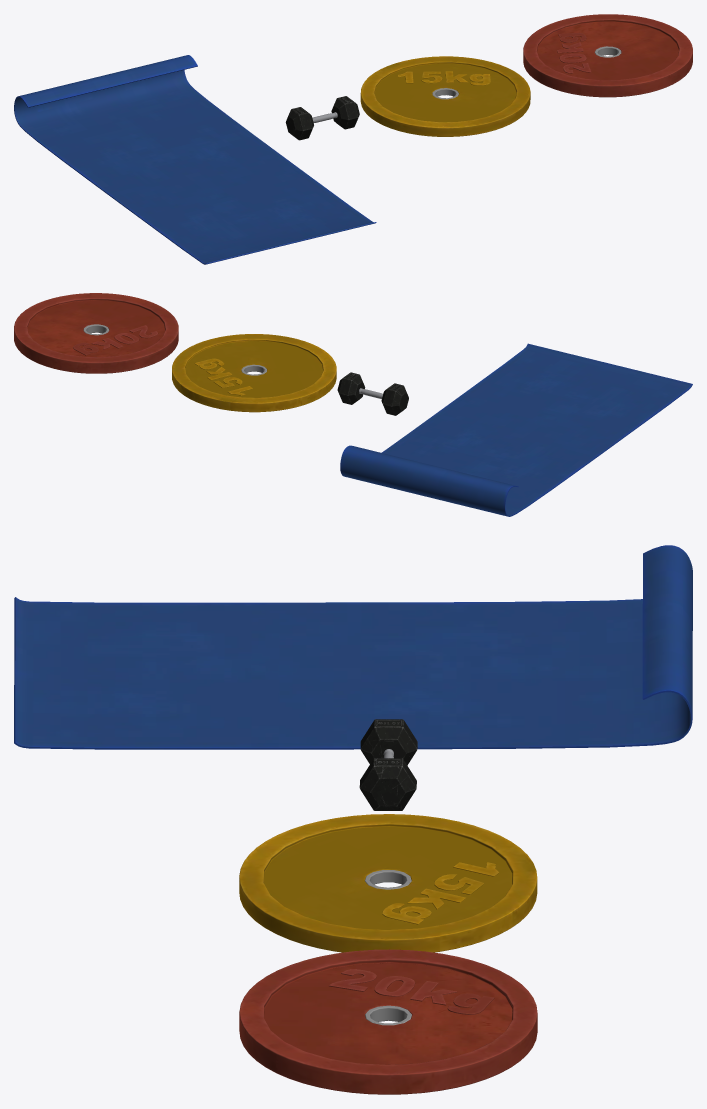
Rendered from gym-props-2.glb.
The picture shows the model from 3 angles, top to bottom: view 1: azimuth 30°, elevation 25°; view 2: azimuth 150°, elevation 25°; view 3: azimuth 270°, elevation 25°; orthographic projection. The views are drawn at different scales.
Visible parts, largest first — view 1: Object_0, Object_4, Object_6, Object_2; view 2: Object_0, Object_4, Object_6, Object_2; view 3: Object_0, Object_4, Object_6, Object_2.
Part boxes in pixels (<box>): Object_0: <box>14,55,376,264</box>; Object_4: <box>523,14,692,97</box>; Object_6: <box>360,56,530,136</box>; Object_2: <box>285,96,359,140</box>; Object_0: <box>340,343,692,516</box>; Object_4: <box>14,293,178,373</box>; Object_6: <box>172,334,336,412</box>; Object_2: <box>337,372,408,415</box>; Object_0: <box>14,545,692,749</box>; Object_4: <box>239,949,537,1094</box>; Object_6: <box>239,814,537,952</box>; Object_2: <box>359,719,417,810</box>.
Size of the model in its own units: 0.8999 by 0.0498 by 0.5182.
7 materials, 4 textured.
